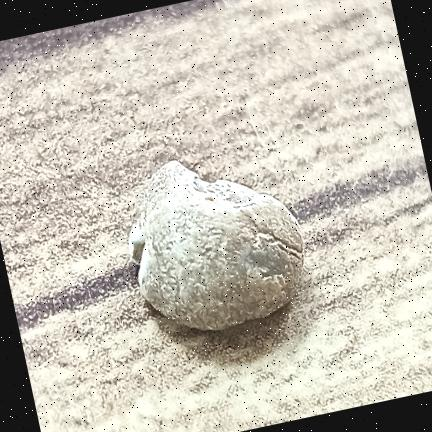cut: (129, 160, 303, 330)
